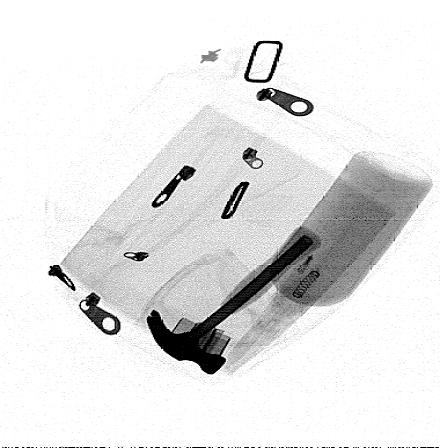Hammer: (146, 225, 322, 375)
